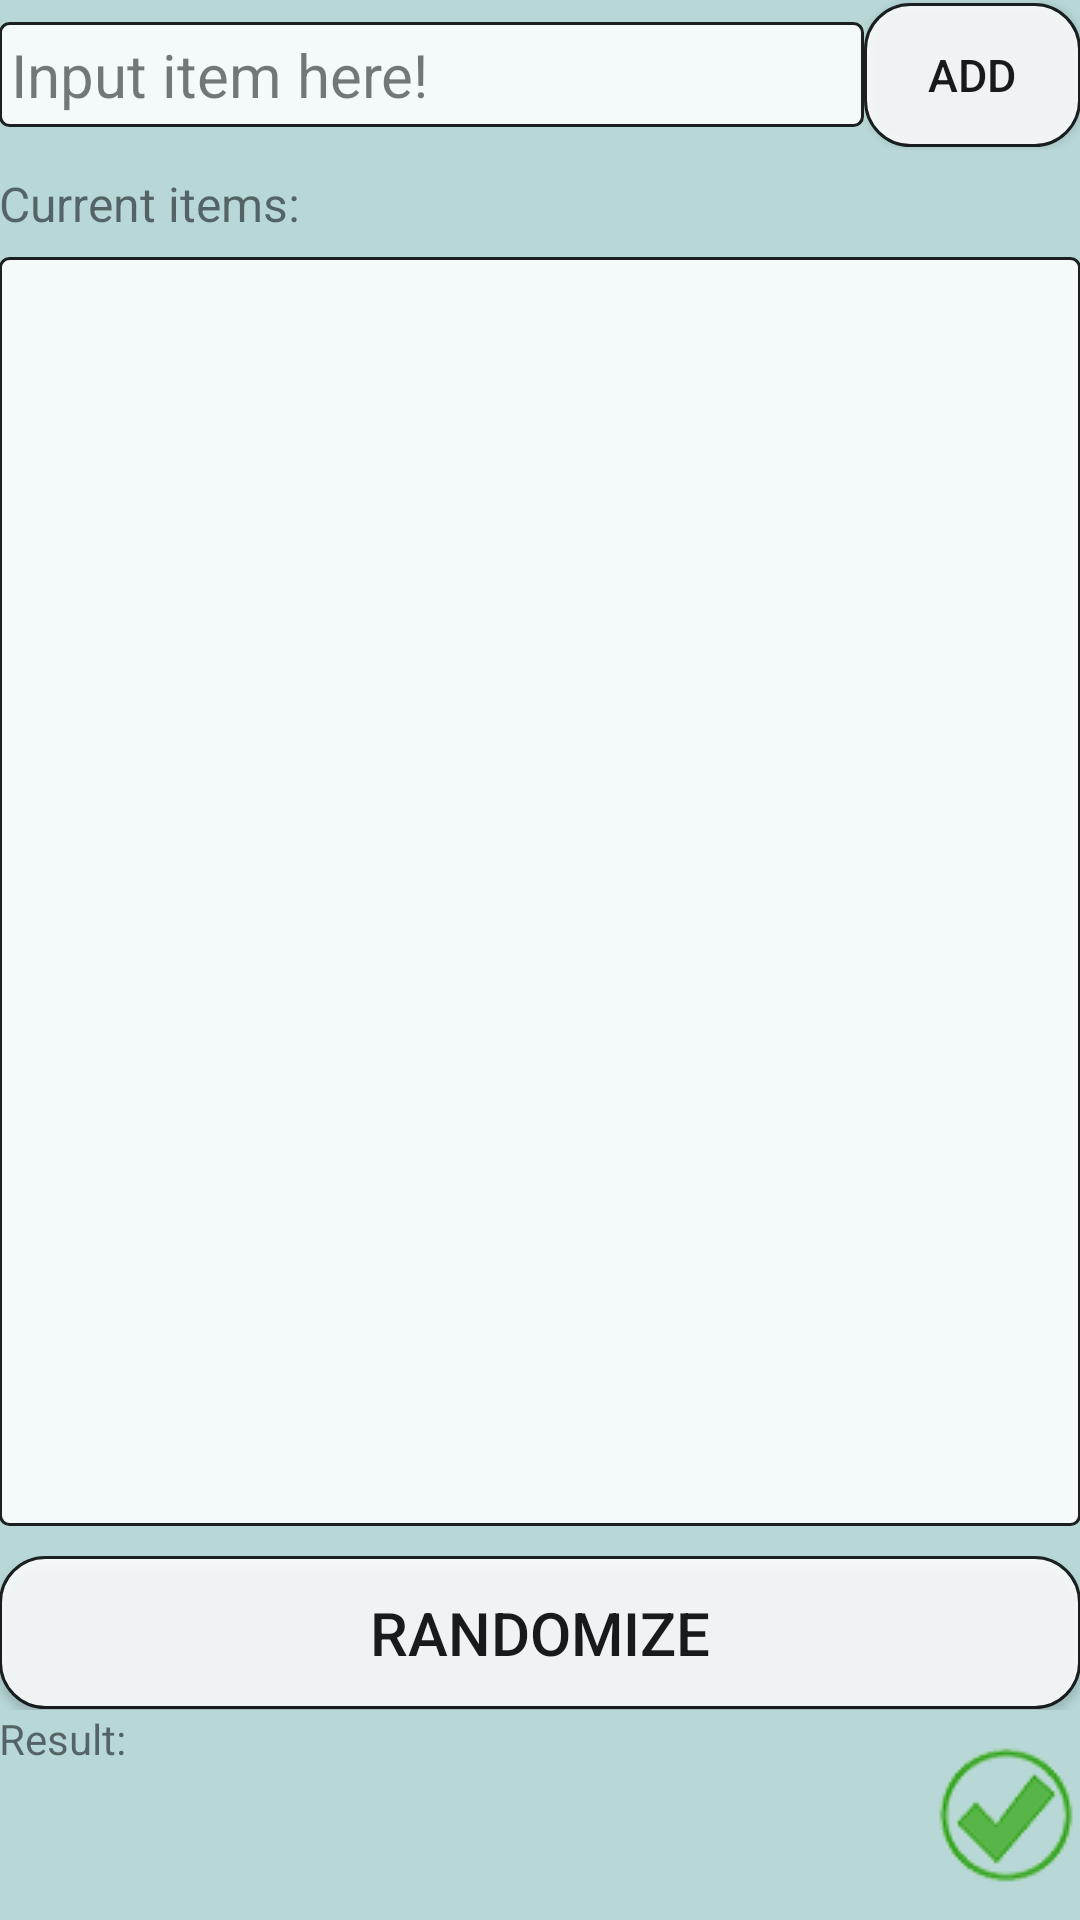

Locate icon controls on the screen. Image size 1080px×1920px, boxes as (x1, y1, x2, y2).
odabrano: (939, 1748, 1073, 1882)
